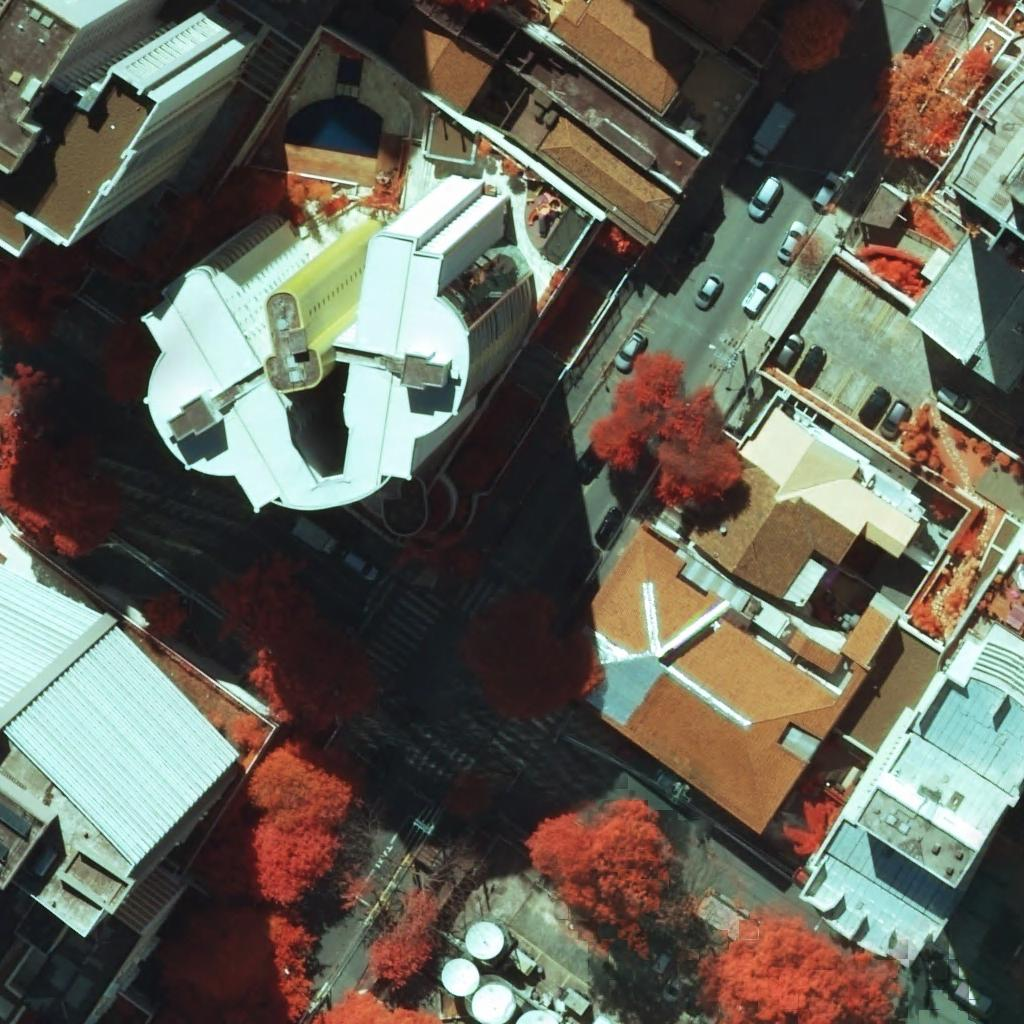pool: (283, 99, 384, 158)
